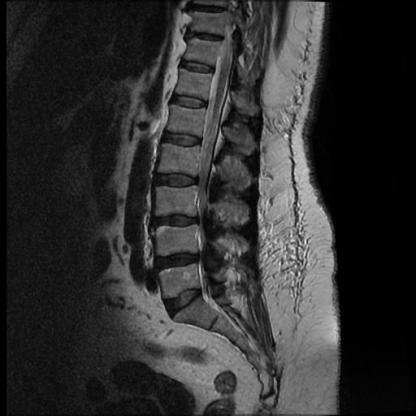Degenerative Disc Diseaserotation: (155, 251, 201, 273)
Disc Bulgerotation: (155, 251, 201, 273), (153, 170, 200, 191), (163, 288, 204, 312), (153, 211, 201, 230), (160, 131, 203, 150)
